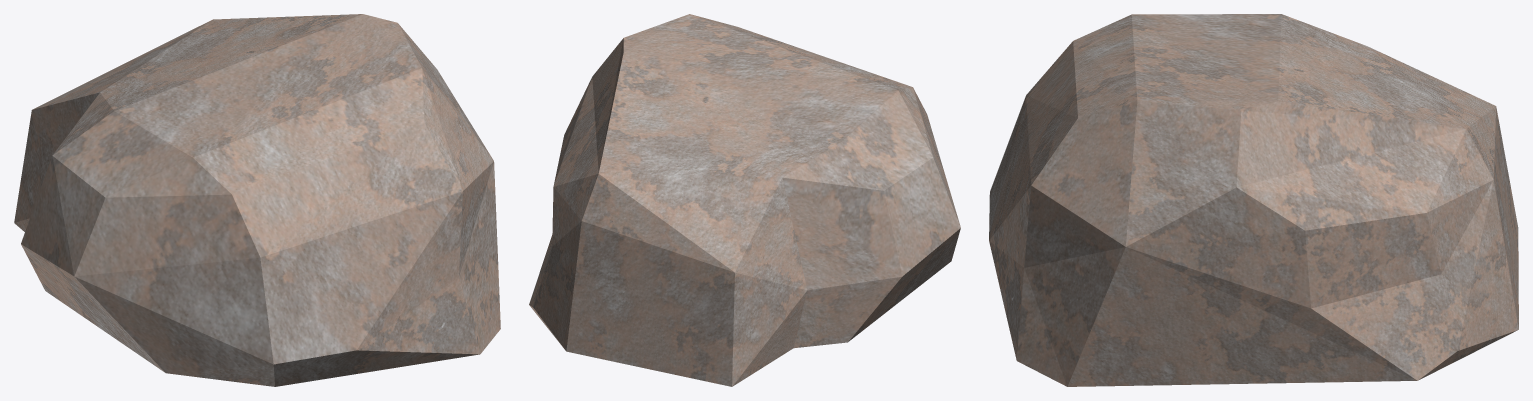
Rendered from stone3.fbx.
3 views of the same model, side by side, from view 1: azimuth 30°, elevation 25°; view 2: azimuth 150°, elevation 25°; view 3: azimuth 270°, elevation 25° (orthographic). The views are drawn at different scales.
Visible parts, largest first — view 1: Group19959; view 2: Group19959; view 3: Group19959.
Boxes of the visible parts, <box> form: Group19959: <box>14,14,500,386</box>; Group19959: <box>529,14,960,386</box>; Group19959: <box>989,14,1518,386</box>.
Bounding box in the file's own units: 209 × 128 × 231.
